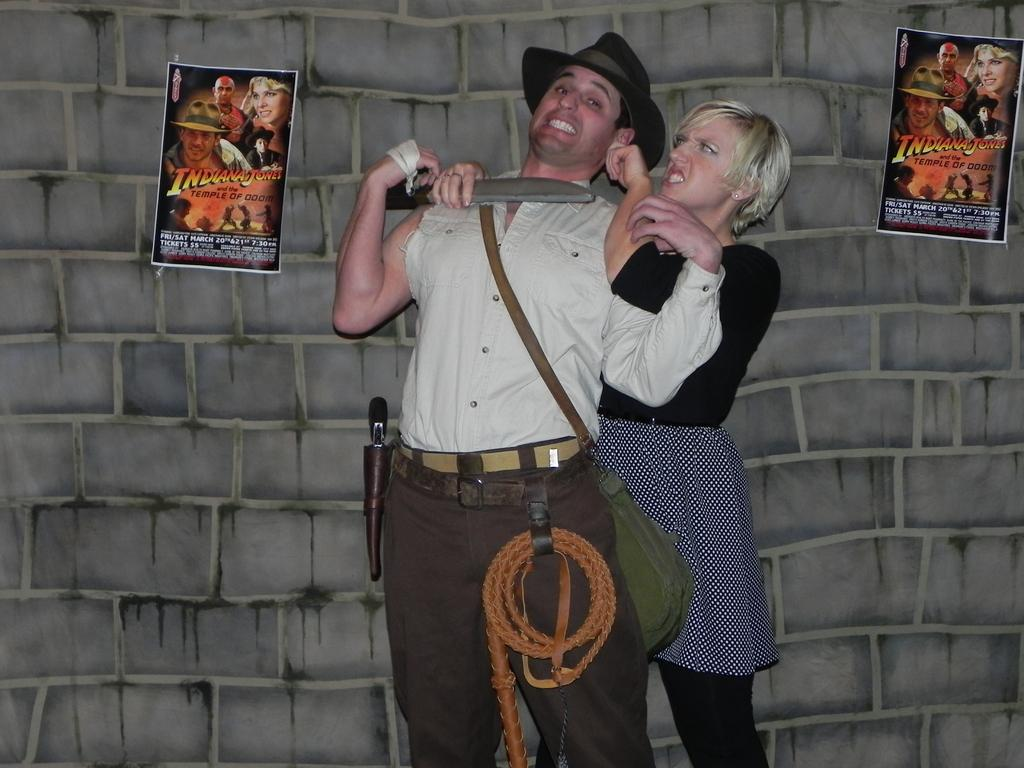Hat: (522, 31, 664, 174), (897, 68, 954, 100), (174, 100, 224, 132)
